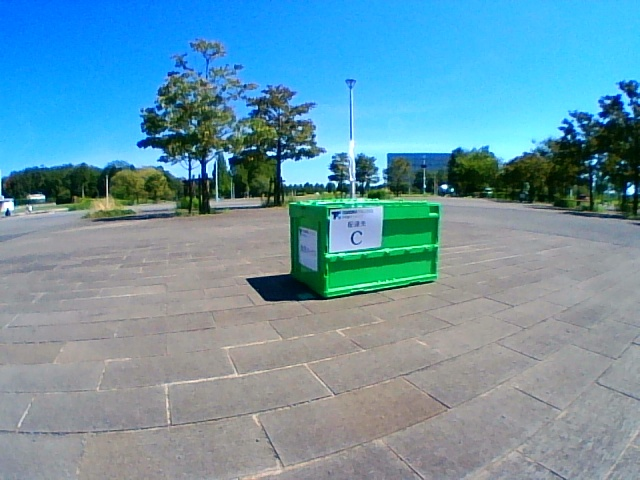green_box: (289, 198, 440, 297)
tag_c: (330, 210, 381, 247)
